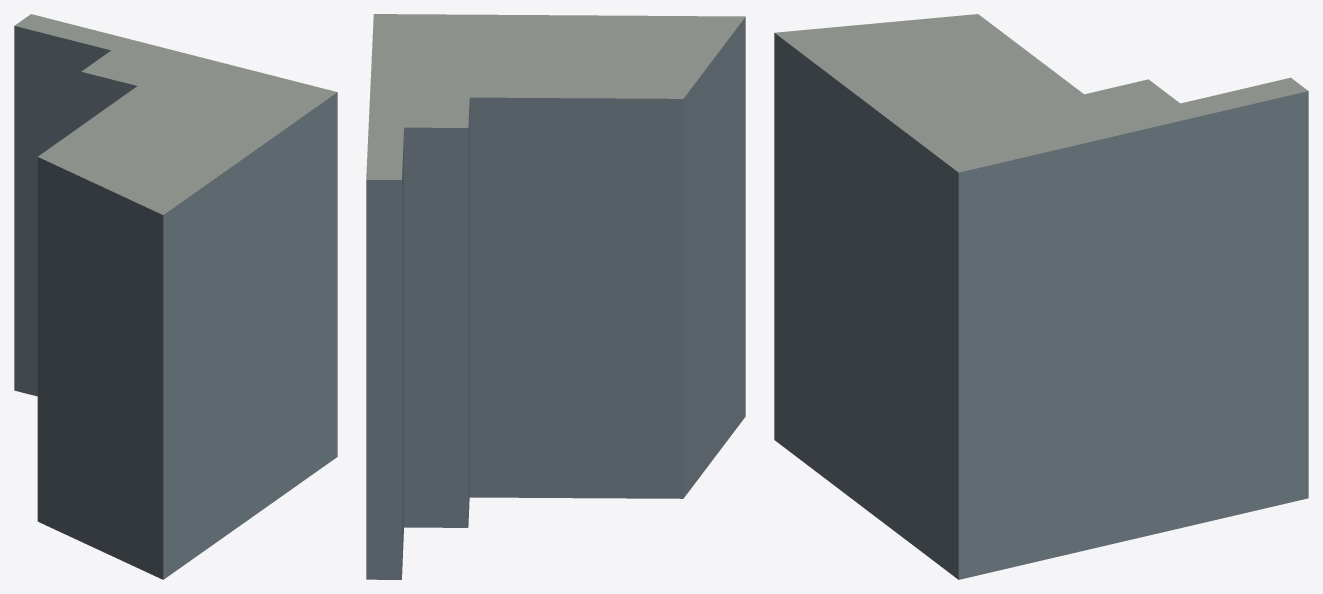
Rendered from nyc-1022579-0.glb.
The picture shows the model from 3 angles, left to right: view 1: azimuth 30°, elevation 25°; view 2: azimuth 150°, elevation 25°; view 3: azimuth 270°, elevation 25°; orthographic projection. The views are drawn at different scales.
Visible parts, largest first — view 1: nyc-1022579-0; view 2: nyc-1022579-0; view 3: nyc-1022579-0.
Part boxes in pixels (box(x1,y1,x2,y2)): nyc-1022579-0: box(14, 14, 337, 579); nyc-1022579-0: box(366, 14, 745, 579); nyc-1022579-0: box(774, 14, 1308, 579).
Size of the model in its own units: 55.98 by 67 by 79.64.
